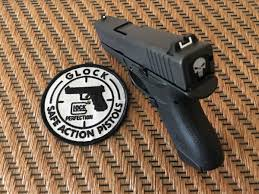gun: (93, 12, 240, 176)
